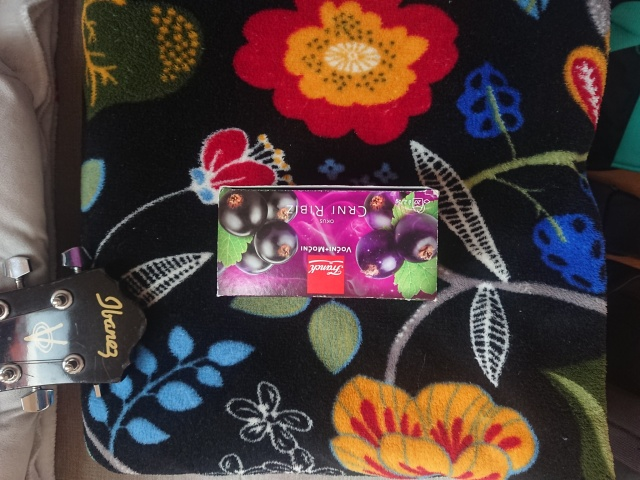Franck Black Currant Tea 60g: (213, 181, 442, 305)
